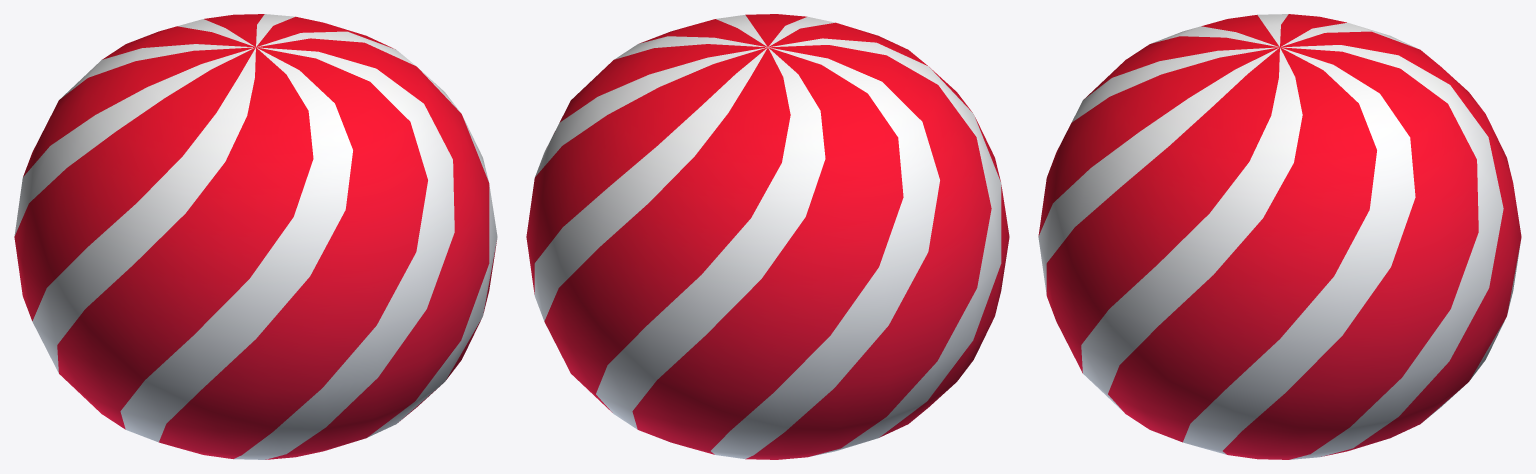
Rendered from lollipop_003.glb.
3 renders of one model, left to right at view 1: azimuth 30°, elevation 25°; view 2: azimuth 150°, elevation 25°; view 3: azimuth 270°, elevation 25°, orthographic.
Visible parts, largest first — view 1: lollipop_003; view 2: lollipop_003; view 3: lollipop_003.
Part boxes in pixels (bbox=[...]): lollipop_003: bbox=[14, 14, 497, 459]; lollipop_003: bbox=[526, 14, 1009, 459]; lollipop_003: bbox=[1038, 14, 1521, 459].
Size of the model in its own units: 2.1 by 1.82 by 2.1.
Materials: 1 (1 with a texture image).
